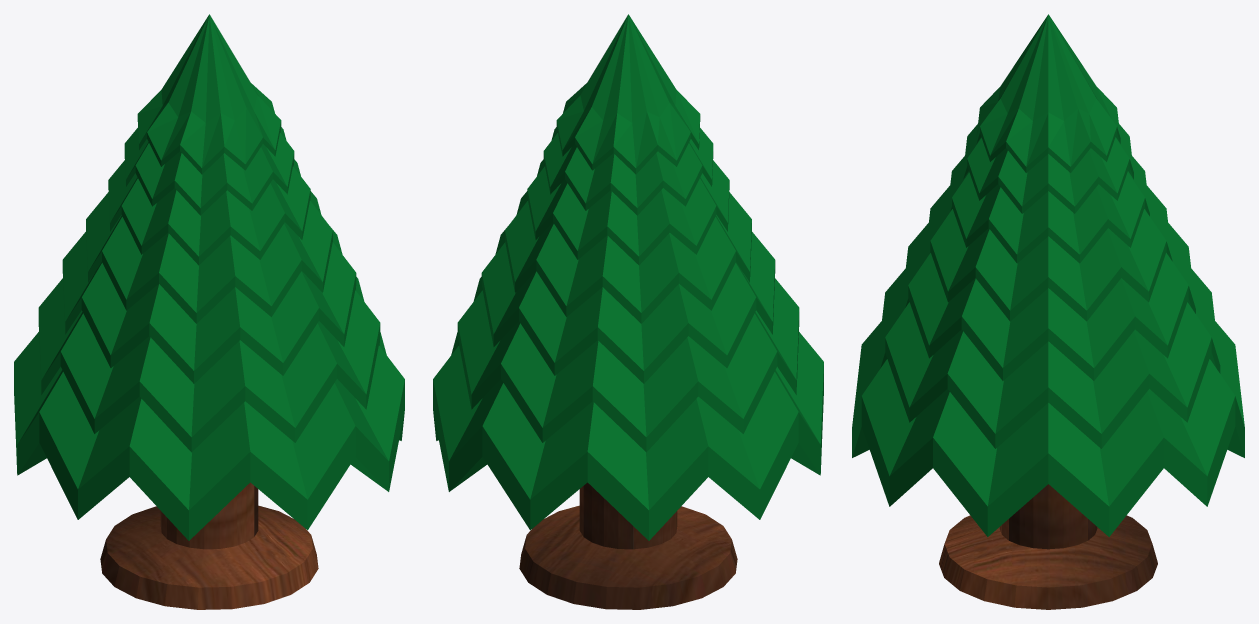
File: Arbolito.fbx
3 views of the same model, side by side, from view 1: azimuth 30°, elevation 25°; view 2: azimuth 150°, elevation 25°; view 3: azimuth 270°, elevation 25° (orthographic).
Parts seen in each view (by area): view 1: pCylinder11; view 2: pCylinder11; view 3: pCylinder11.
Part boxes in pixels (x1,y1,x2,y2): pCylinder11: [14, 14, 404, 609]; pCylinder11: [433, 14, 823, 609]; pCylinder11: [852, 14, 1244, 609].
Bounding box in the file's own units: 7.73 × 11.93 × 7.73.
Materials: 2 (1 with a texture image).
